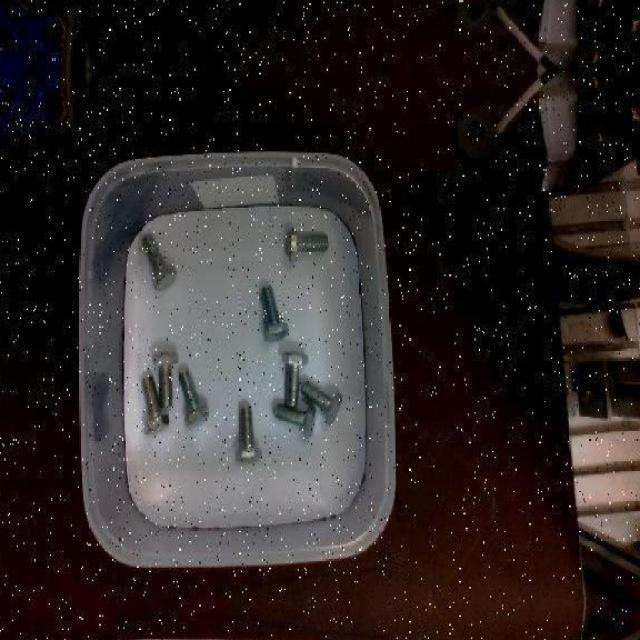screw: (142, 232, 178, 290), (179, 368, 211, 427), (301, 380, 342, 426), (234, 404, 264, 465), (141, 376, 170, 435), (273, 402, 317, 440), (260, 284, 289, 340), (152, 350, 179, 408), (282, 350, 308, 406), (286, 227, 328, 260)
